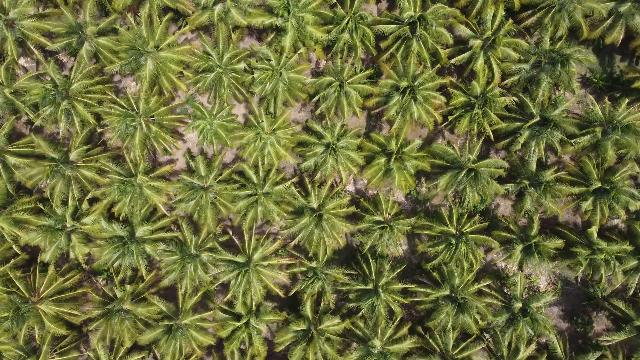trees: (7, 133, 118, 213), (4, 261, 96, 356), (13, 53, 109, 144), (70, 275, 172, 360), (501, 20, 592, 111), (330, 251, 418, 343), (101, 10, 196, 95), (95, 84, 190, 168), (206, 225, 295, 314), (83, 208, 177, 288), (477, 276, 563, 360), (496, 89, 585, 169), (276, 182, 360, 265), (447, 7, 528, 91), (411, 205, 498, 283), (223, 155, 300, 238), (9, 194, 93, 270), (557, 221, 639, 298), (292, 118, 374, 195), (426, 139, 508, 213), (38, 2, 127, 70), (357, 126, 437, 201), (490, 211, 569, 286), (167, 153, 238, 236), (372, 60, 449, 136), (562, 155, 640, 229), (230, 104, 304, 180), (304, 57, 381, 130), (186, 33, 257, 111), (569, 93, 640, 170), (244, 45, 315, 121), (349, 194, 424, 265), (373, 5, 451, 73), (439, 79, 513, 150), (504, 155, 580, 224), (573, 281, 640, 352), (188, 3, 281, 52), (262, 3, 337, 60), (314, 3, 382, 65), (2, 3, 62, 70), (526, 2, 596, 46), (579, 3, 640, 49), (2, 113, 30, 201), (462, 2, 519, 42)
